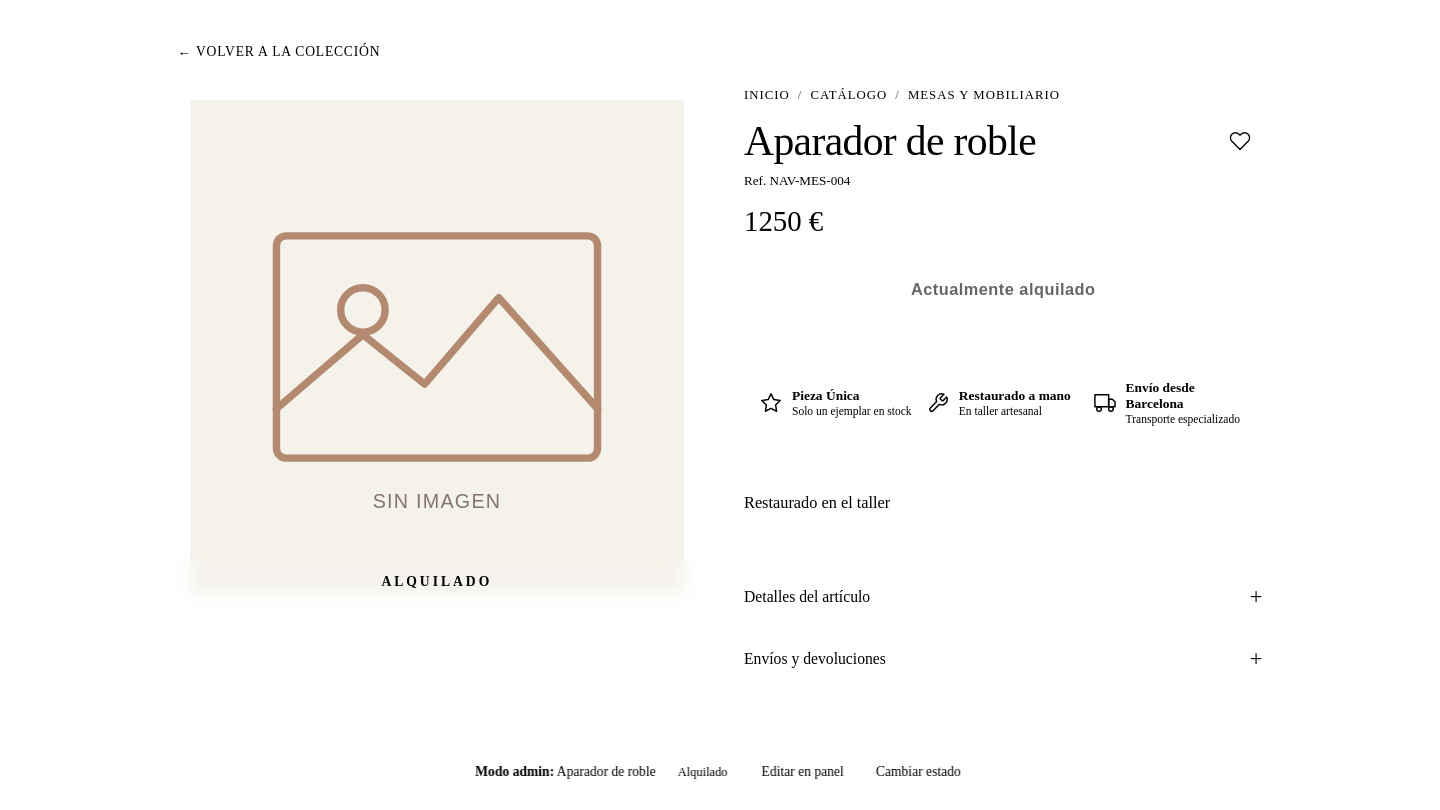
Scenario: Ficha pública — barra de modo admin › «Cambiar estado» ofrece los tres estados, con el actual marcado
Expected: the heading "Aparador de roble" is shown, x1=744 y1=119 x2=1036 y2=165
Expected: the element "Modo admin" is shown, x1=459 y1=750 x2=981 y2=794
Click the button with aria-label "Cambiar estado de Aparador de roble". click: [918, 772]
box: x1=864 y1=758 x2=973 y2=786
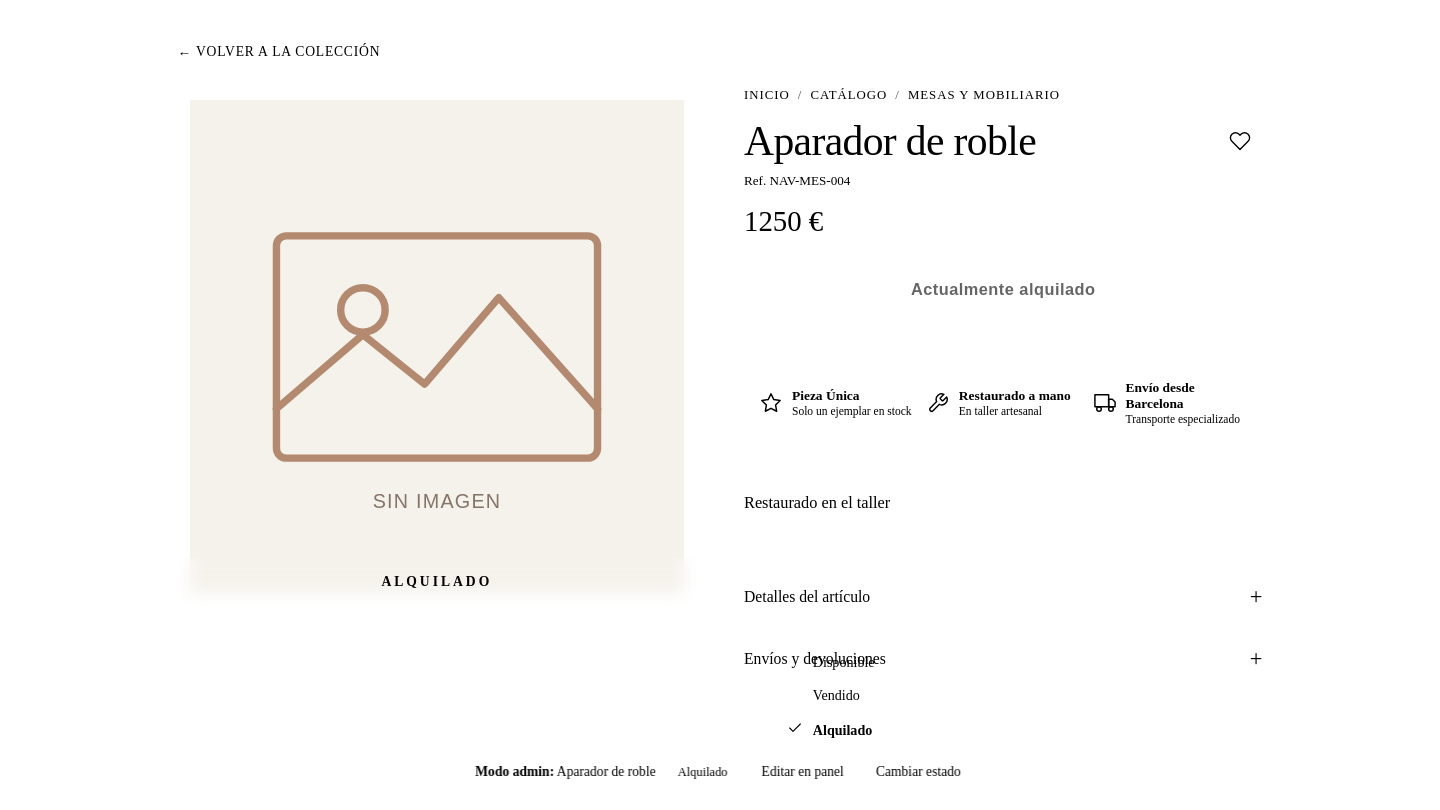
Expected: the 7th icon is shown, x1=787 y1=720 x2=803 y2=736
